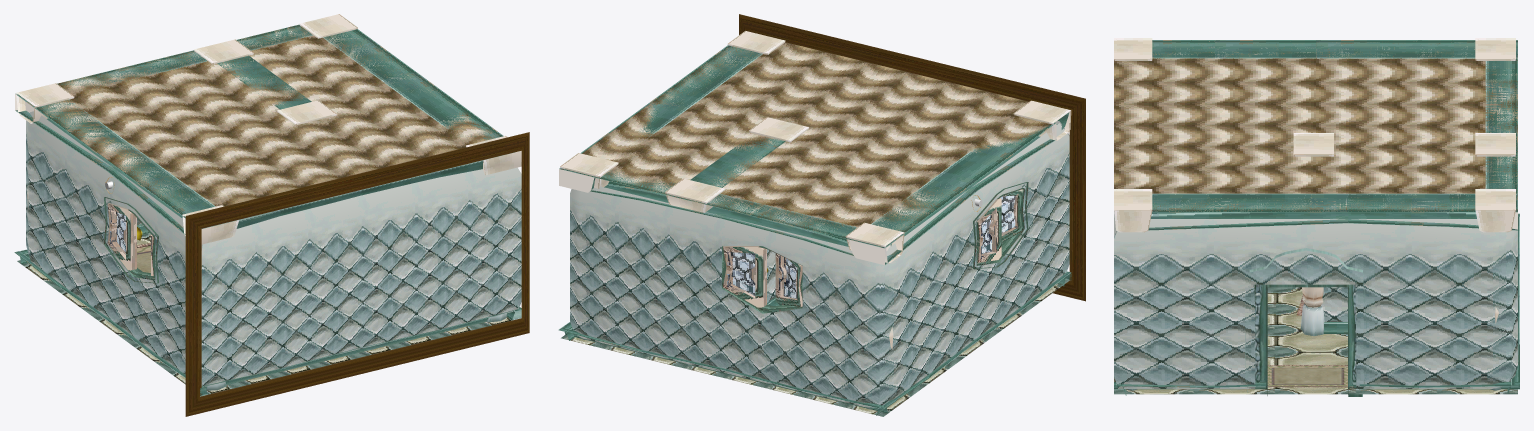
File: room_45.glb
3 renders of one model, left to right at view 1: azimuth 30°, elevation 25°; view 2: azimuth 150°, elevation 25°; view 3: azimuth 270°, elevation 25°, orthographic. The views are drawn at different scales.
Parts seen in each view (by area): view 1: room_45; view 2: room_45; view 3: room_45.
Boxes of the visible parts, x1,y1,x2,y2 form: room_45: (14, 14, 529, 416); room_45: (558, 14, 1085, 416); room_45: (1114, 38, 1519, 396).
Size of the model in its own units: 1075 by 600 by 1005.
Materials: 19 (18 with a texture image).
